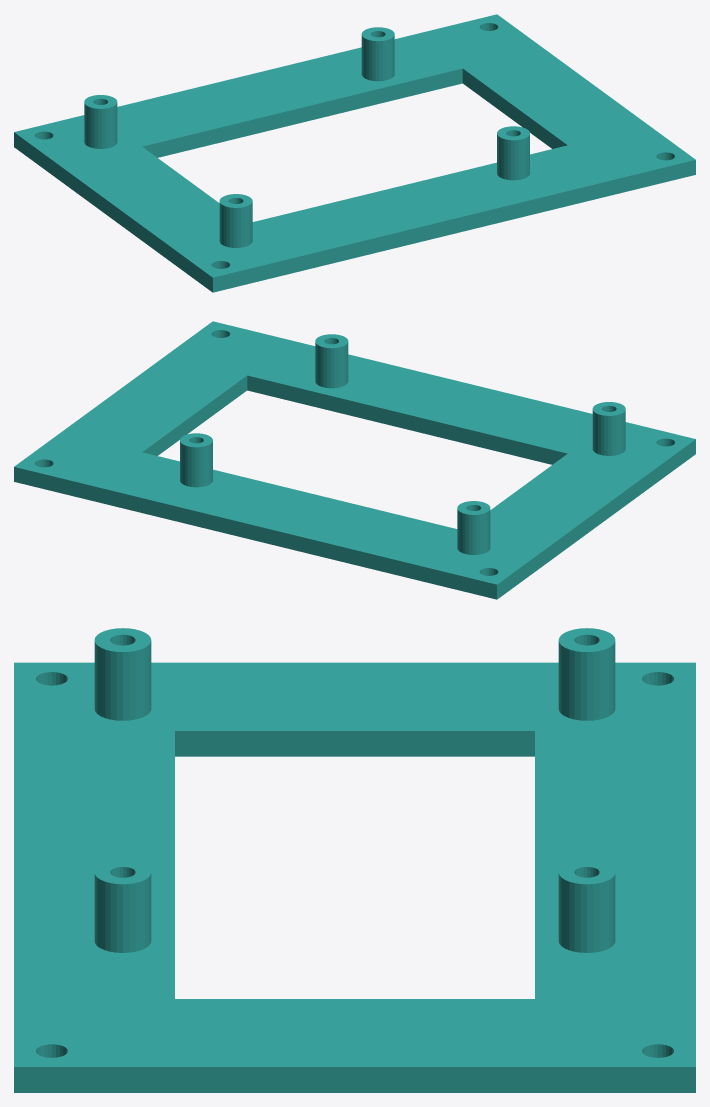
Rendered from rpi5-open-tray.glb.
3 views of the same model, one above another, from view 1: azimuth 30°, elevation 25°; view 2: azimuth 150°, elevation 25°; view 3: azimuth 270°, elevation 25° (orthographic). The views are drawn at different scales.
Visible parts, largest first — view 1: Fusion-exported original open tray; view 2: Fusion-exported original open tray; view 3: Fusion-exported original open tray.
Boxes of the visible parts, x1,y1,x2,y2 form: Fusion-exported original open tray: [14, 14, 695, 292]; Fusion-exported original open tray: [14, 321, 695, 599]; Fusion-exported original open tray: [14, 628, 695, 1092].
Bounding box in the file's own units: 0.101 × 0.011 × 0.072.
